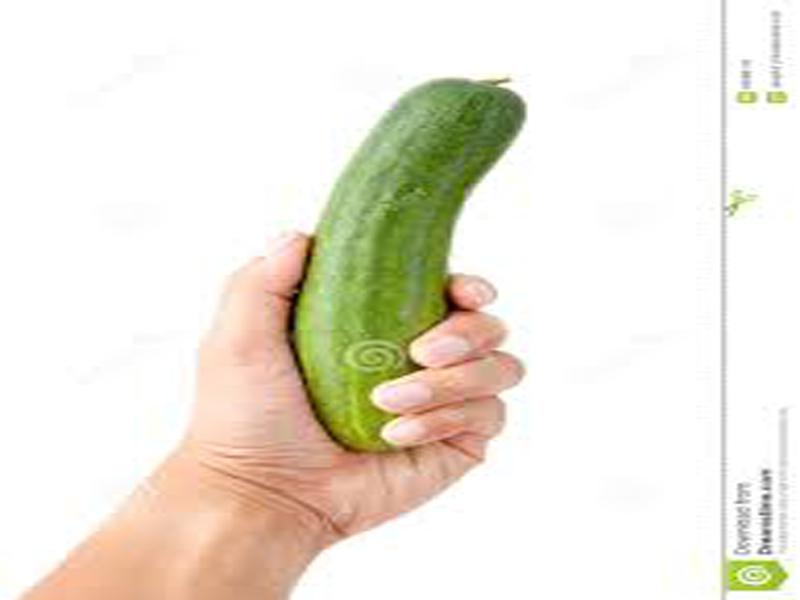Cucumber: (298, 76, 526, 451)
